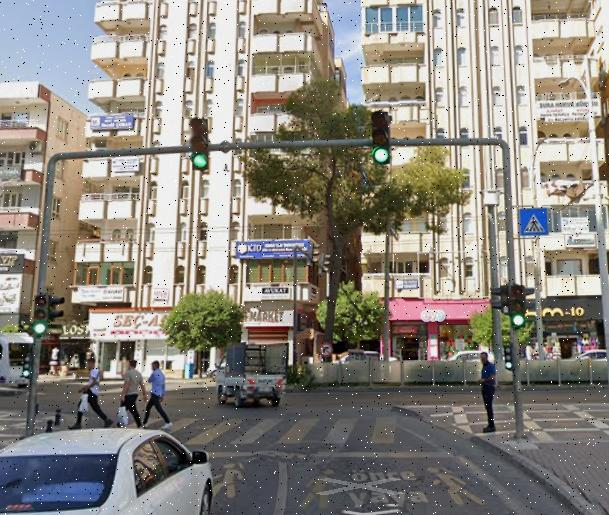greenlight: (371, 111, 394, 166), (189, 115, 208, 170), (508, 281, 528, 329), (31, 292, 51, 336)
